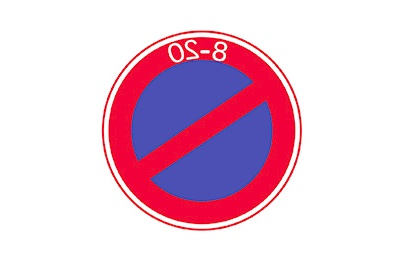Prohibition_sign: (98, 16, 314, 251)
